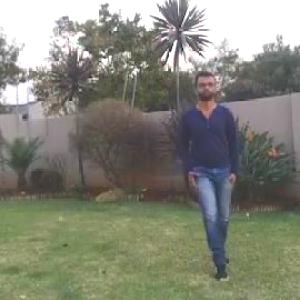follow: (181, 65, 253, 282)
